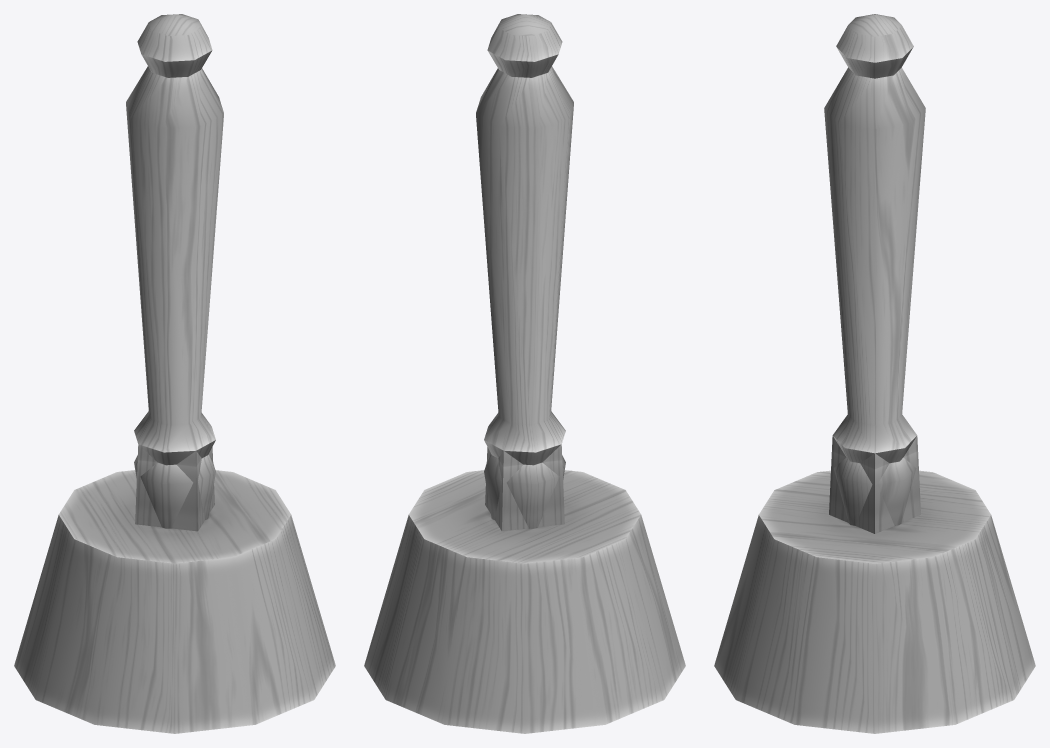
Rendered from 3D_LFR_M053_Ham01_LODGroup.fbx.
The picture shows the model from 3 angles, left to right: view 1: azimuth 30°, elevation 25°; view 2: azimuth 150°, elevation 25°; view 3: azimuth 270°, elevation 25°; orthographic projection.
Parts seen in each view (by area): view 1: M053_Ham01_LOD0_001, M053_Ham01_LOD1_001; view 2: M053_Ham01_LOD0_001, M053_Ham01_LOD1_001; view 3: M053_Ham01_LOD0_001, M053_Ham01_LOD1_001.
Part boxes in pixels (x1,y1,x2,y2): M053_Ham01_LOD0_001: [14, 14, 335, 733]; M053_Ham01_LOD1_001: [59, 444, 288, 556]; M053_Ham01_LOD0_001: [364, 14, 685, 733]; M053_Ham01_LOD1_001: [410, 444, 640, 556]; M053_Ham01_LOD0_001: [714, 14, 1035, 733]; M053_Ham01_LOD1_001: [759, 436, 990, 556].
Bounding box in the file's own units: 0.1179 × 0.2694 × 0.1179.
